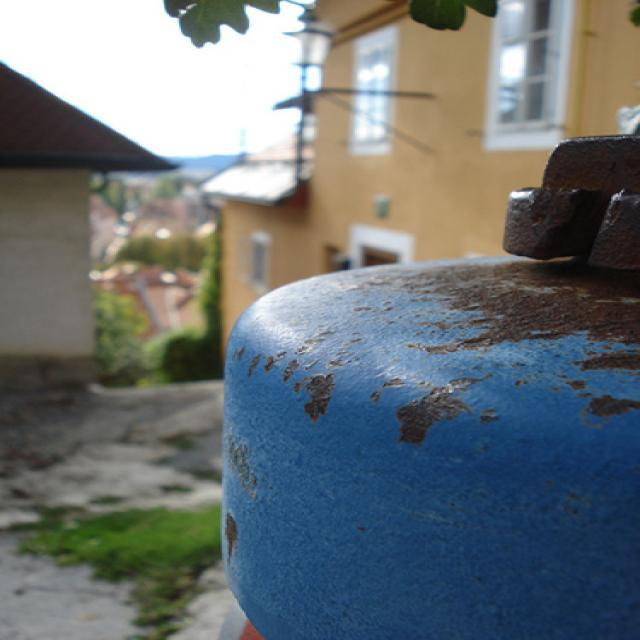fire_hydrant: (220, 135, 635, 632)
